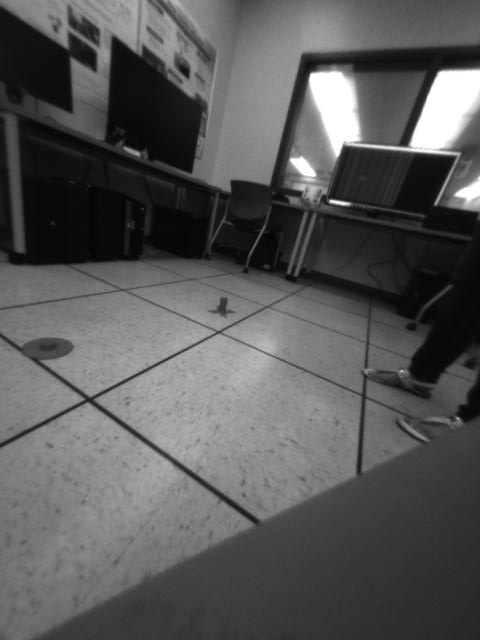X: (208, 297, 237, 320)
